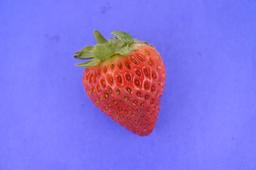red strawberry: (83, 38, 167, 137)
